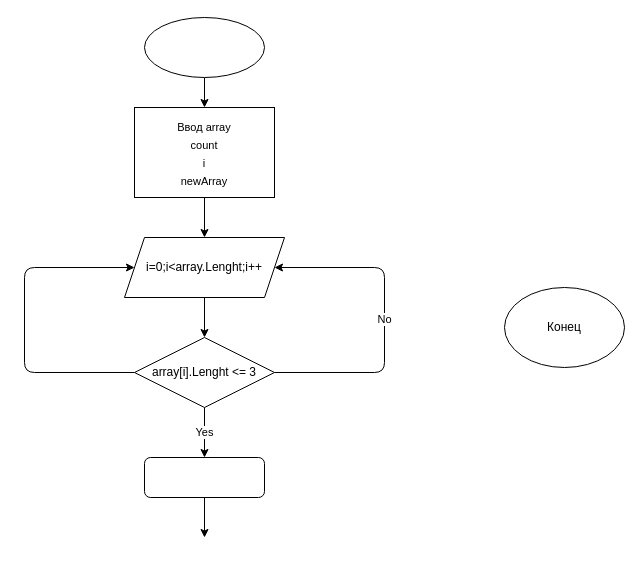
The diagram is 642 pixels wide and 563 high, and some of its shapes have lost their labels. The shapes that lost their labels are listed below. From the top down, each one's centre as x and y in pixels, then its label:
the point at 204,47: Начало
the point at 204,477: count++
